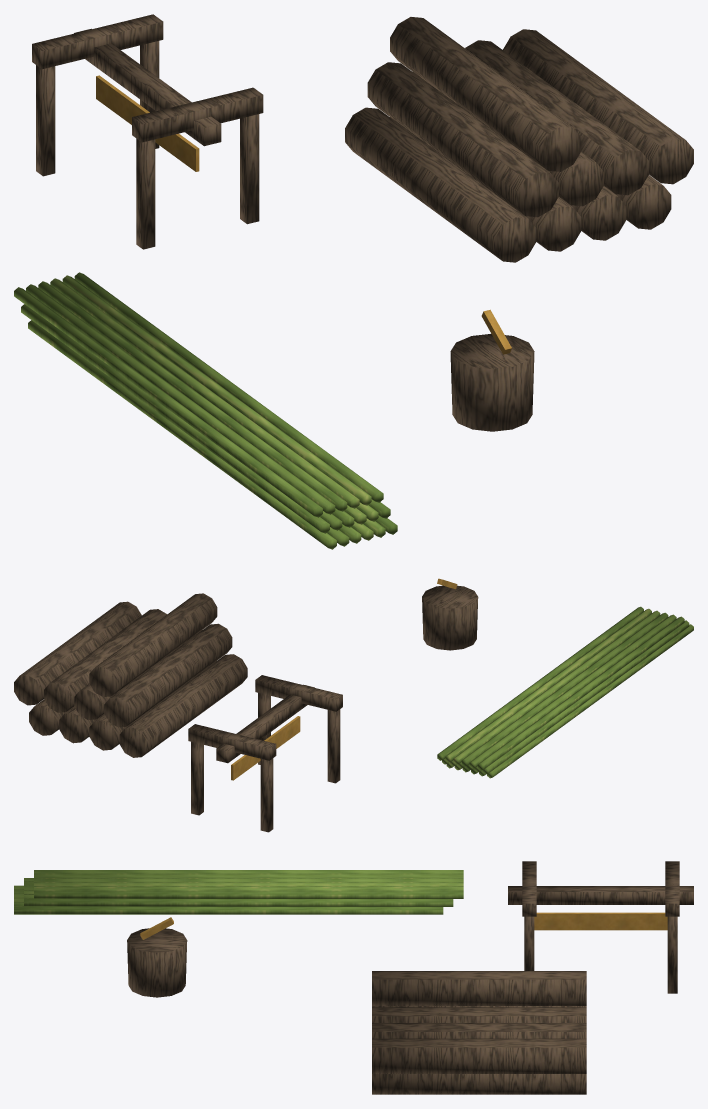
The model's file is woodcutter_camp.glb.
3 renders of one model, top to bottom at view 1: azimuth 30°, elevation 25°; view 2: azimuth 150°, elevation 25°; view 3: azimuth 270°, elevation 25°, orthographic. The views are drawn at different scales.
Parts seen in each view (by area): view 1: Logs, Bamboo, Tools; view 2: Logs, Bamboo, Tools; view 3: Logs, Bamboo, Tools.
Boxes of the visible parts, <box> form: Logs: <box>32,14,693,431</box>; Bamboo: <box>14,272,397,549</box>; Tools: <box>96,75,511,354</box>; Logs: <box>14,585,478,832</box>; Bamboo: <box>437,606,693,778</box>; Tools: <box>231,578,457,780</box>; Logs: <box>127,861,693,1094</box>; Bamboo: <box>14,870,463,914</box>; Tools: <box>140,912,667,939</box>.
Size of what is drawn, in the model's own units: 7.11 by 1.4 by 9.5.
3 materials, 3 textured.
